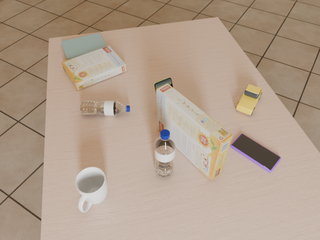book: (61, 33, 107, 60)
bottle: (155, 129, 176, 178), (80, 100, 130, 115)
box: (156, 84, 233, 181), (62, 46, 126, 90)
cup: (75, 167, 108, 212)
phone: (231, 134, 281, 172)
toy_car: (236, 84, 262, 115)
